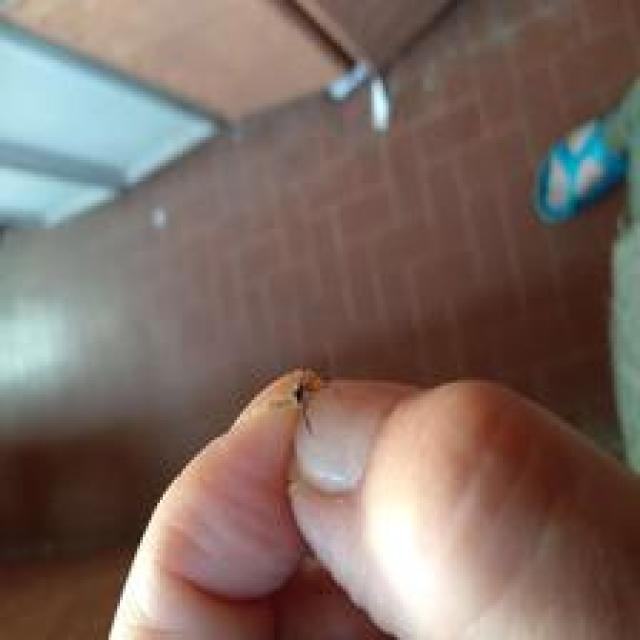Aedes albopictus: (272, 364, 328, 436)
